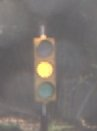Yellow: (29, 32, 57, 107)
